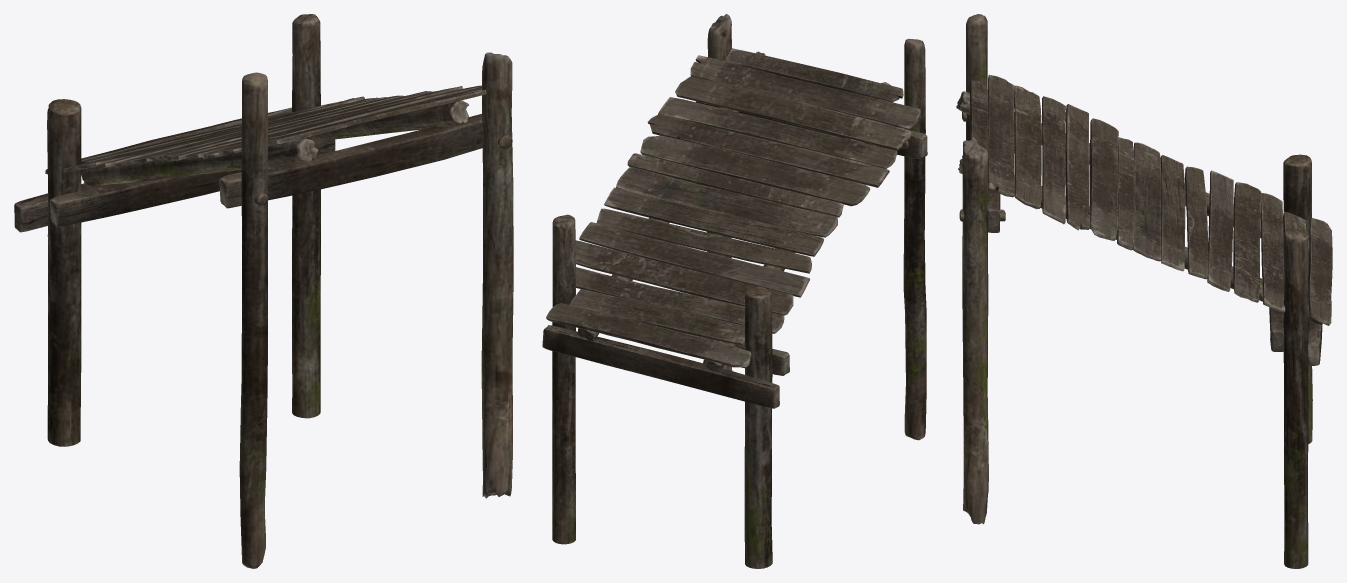
The model's file is pier_end.glb.
The picture shows the model from 3 angles, left to right: view 1: azimuth 30°, elevation 25°; view 2: azimuth 150°, elevation 25°; view 3: azimuth 270°, elevation 25°; orthographic projection. The views are drawn at different scales.
Visible parts, largest first — view 1: modular_wooden_pier_section_04; view 2: modular_wooden_pier_section_04; view 3: modular_wooden_pier_section_04.
Boxes of the visible parts, bbox=[...] form: modular_wooden_pier_section_04: bbox=[14, 14, 513, 568]; modular_wooden_pier_section_04: bbox=[542, 14, 927, 568]; modular_wooden_pier_section_04: bbox=[956, 14, 1332, 568].
Size of the model in its own units: 2.46 by 4.16 by 3.16.
Materials: 2 (2 with a texture image).
